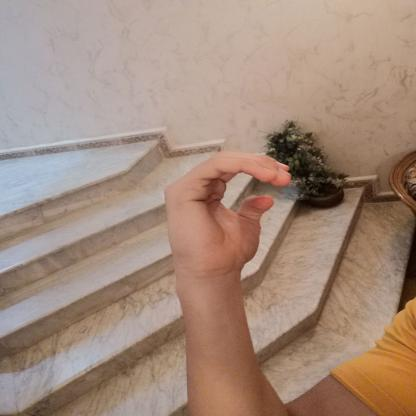JEEM: (152, 140, 306, 287)
